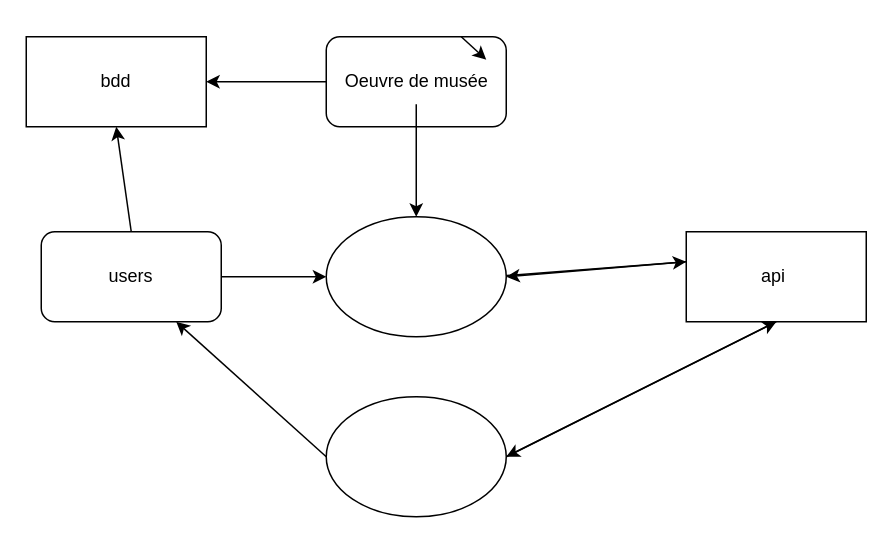
Image size: 893x543. Some labels were removed from this diagram. The centre of each missing label's shape, as x and y in pixels:
Authentification: the point at 415,456
CRUD: the point at 415,276
